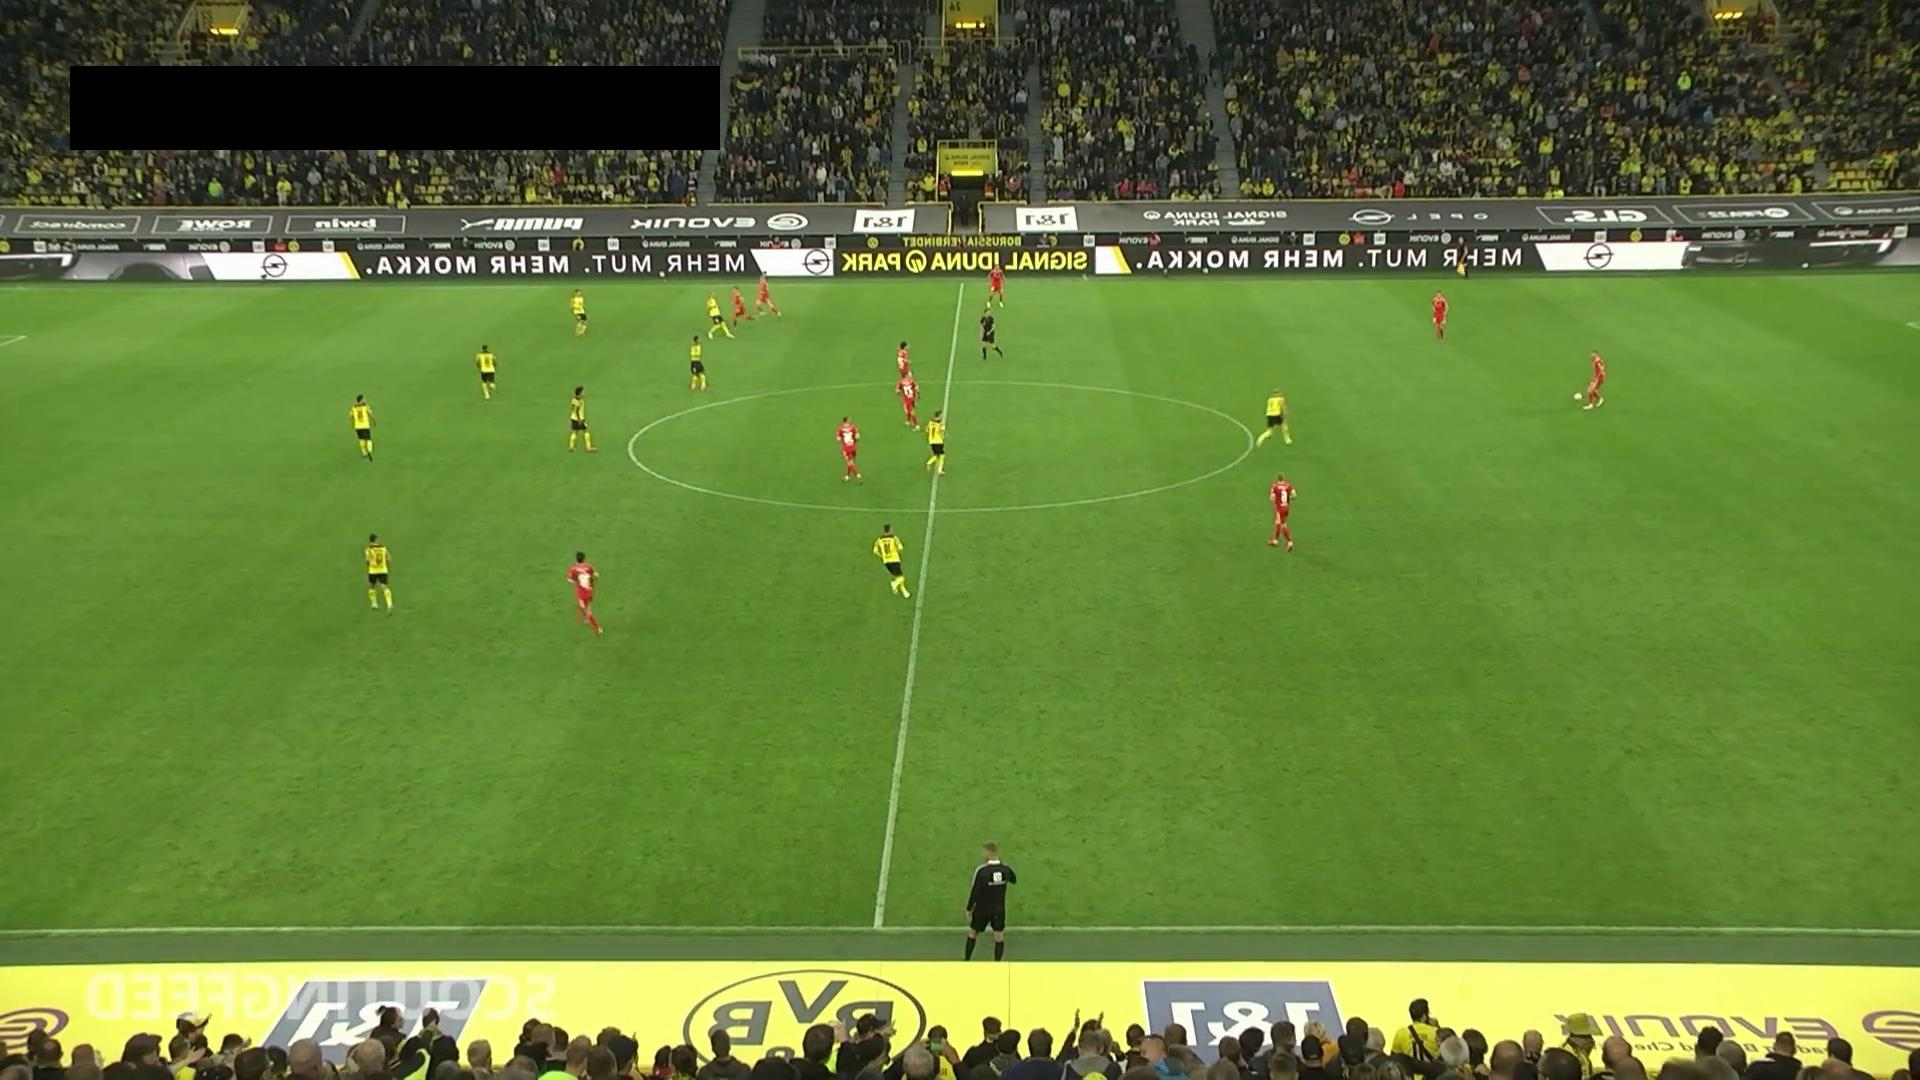ball: (1573, 390, 1583, 402)
player: (566, 550, 604, 638), (872, 522, 911, 598), (363, 533, 394, 615), (1267, 472, 1298, 552), (1256, 387, 1293, 446), (566, 385, 598, 453), (347, 393, 377, 462), (836, 415, 863, 482), (923, 409, 946, 476), (896, 341, 922, 398), (896, 370, 920, 429), (706, 291, 735, 339), (1584, 349, 1606, 410), (475, 343, 498, 400), (754, 274, 782, 319), (688, 334, 709, 391), (569, 288, 589, 337), (730, 287, 753, 327), (1431, 291, 1449, 341), (987, 264, 1006, 309)
referee: (979, 308, 1005, 361), (1453, 234, 1470, 277)
